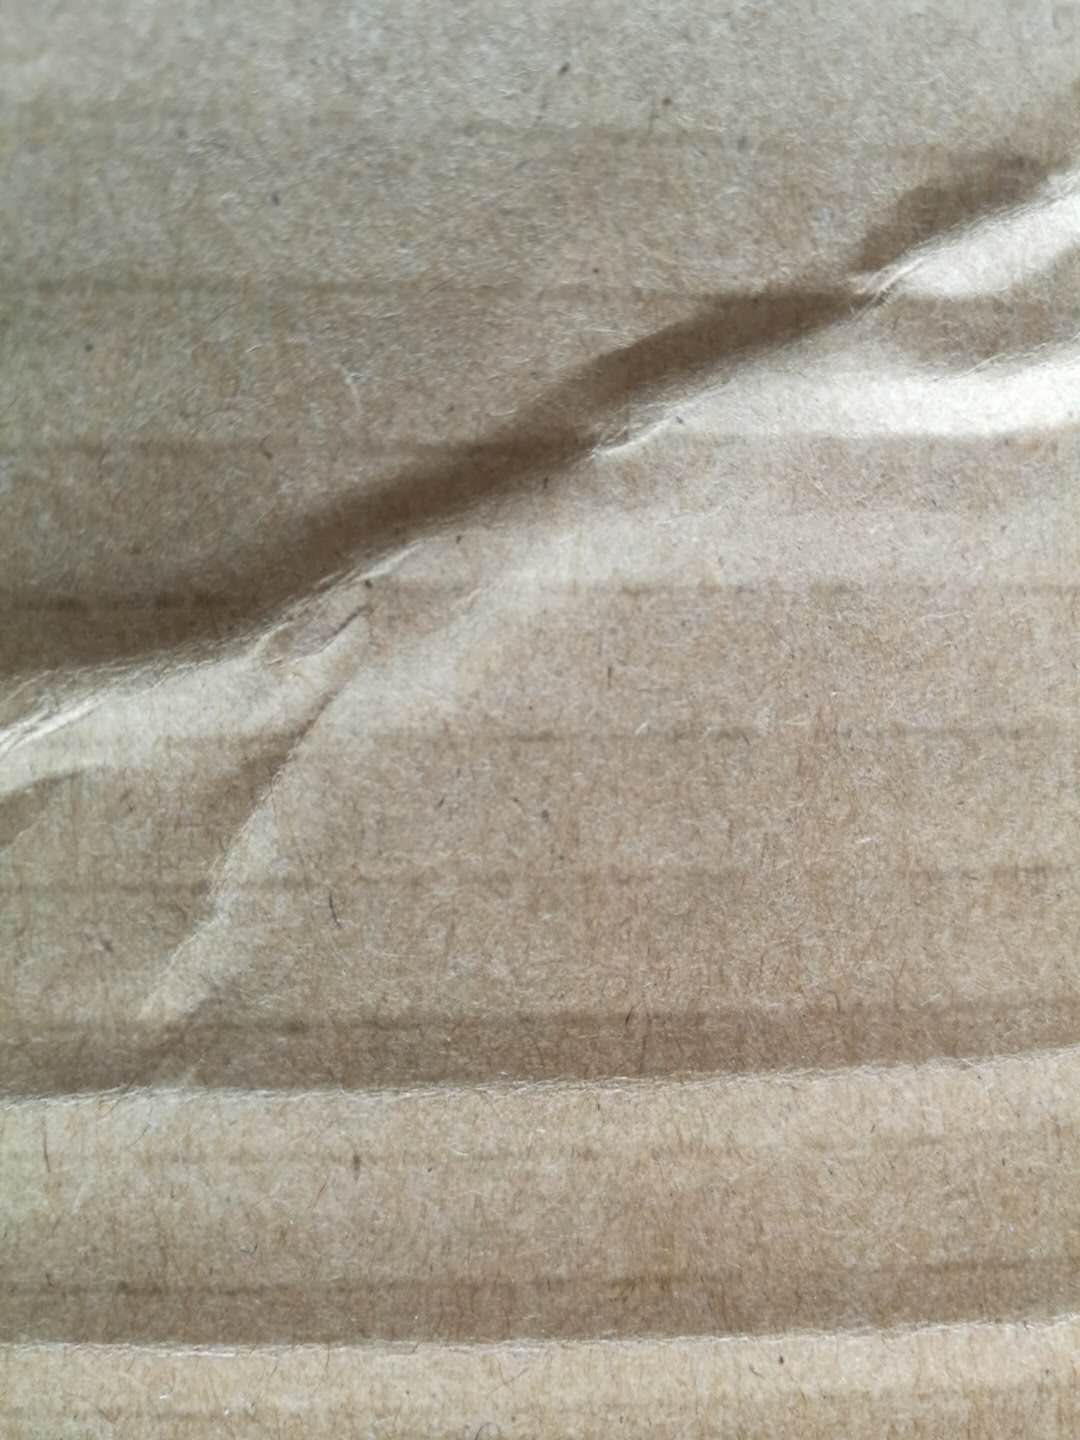defect: (3, 101, 1080, 1017), (1, 1208, 1080, 1425), (2, 959, 1080, 1152)
